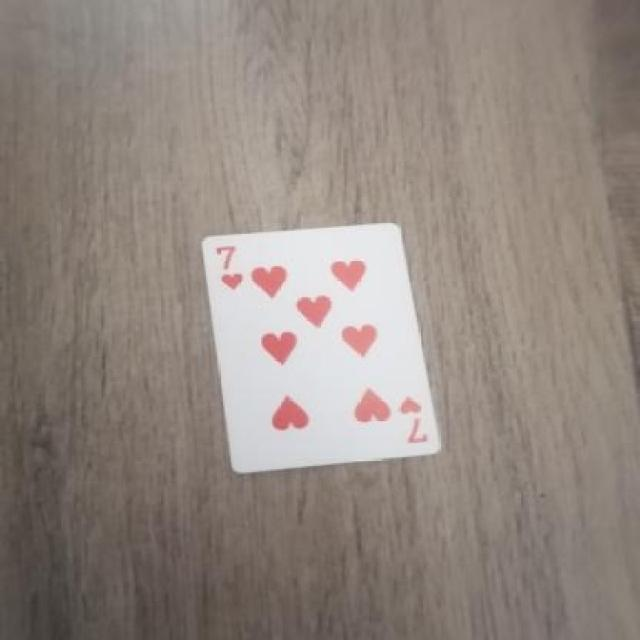7H: (203, 237, 254, 308), (398, 394, 448, 451)
